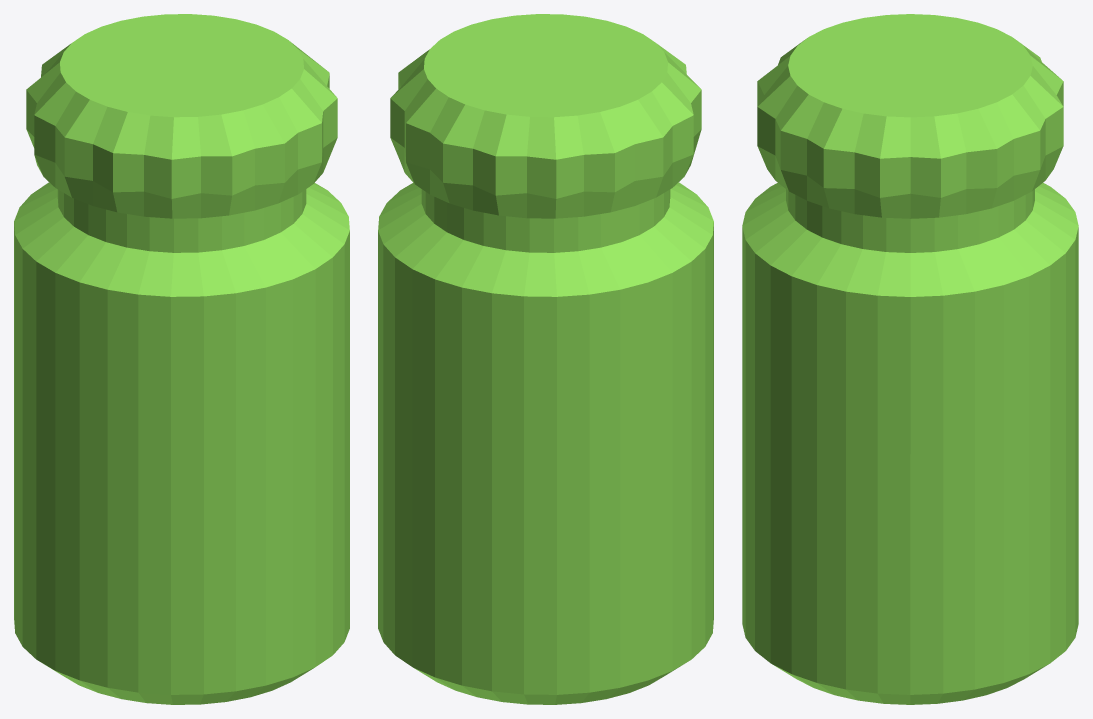
Rendered from Fahtalai_base.fbx.
The picture shows the model from 3 angles, left to right: view 1: azimuth 30°, elevation 25°; view 2: azimuth 150°, elevation 25°; view 3: azimuth 270°, elevation 25°; orthographic projection.
Parts seen in each view (by area): view 1: Cylinder; view 2: Cylinder; view 3: Cylinder.
Part boxes in pixels (x1=…): Cylinder: x1=14, y1=14, x2=349, y2=704; Cylinder: x1=378, y1=14, x2=713, y2=704; Cylinder: x1=742, y1=14, x2=1078, y2=704.
Size of the model in its own units: 215 by 411 by 215.
